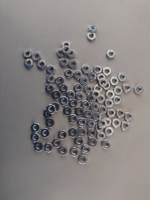nut: (31, 123, 41, 133), (30, 133, 40, 143), (58, 130, 68, 140), (78, 155, 88, 165), (98, 119, 108, 129), (75, 107, 85, 117), (112, 119, 122, 129), (53, 138, 62, 149), (70, 147, 79, 158), (34, 143, 44, 152), (41, 129, 51, 138), (46, 118, 55, 128), (59, 146, 68, 156), (75, 137, 84, 147), (69, 128, 78, 138), (102, 140, 111, 150), (89, 138, 98, 148), (69, 99, 79, 108), (63, 107, 73, 116), (114, 86, 124, 95), (135, 85, 144, 95), (106, 90, 116, 99), (78, 128, 87, 138), (69, 115, 79, 124), (87, 120, 97, 129), (77, 118, 87, 127), (83, 110, 93, 119), (81, 101, 91, 110), (93, 112, 102, 122), (87, 129, 97, 138), (105, 127, 114, 137), (107, 109, 117, 118), (107, 50, 116, 59), (60, 58, 69, 67), (69, 60, 78, 69), (82, 65, 91, 74), (46, 75, 55, 84), (65, 69, 74, 78), (46, 84, 55, 93), (67, 49, 76, 58), (119, 73, 128, 82), (74, 84, 83, 93), (111, 77, 120, 86), (47, 105, 56, 114), (52, 103, 61, 112), (82, 145, 91, 154), (60, 97, 69, 106), (76, 93, 85, 102), (92, 90, 101, 99), (103, 82, 112, 91), (114, 96, 123, 105), (105, 99, 114, 108), (91, 103, 100, 112), (99, 106, 108, 115), (97, 132, 106, 141), (122, 122, 131, 131), (125, 112, 134, 121), (117, 109, 126, 118), (45, 143, 53, 153), (38, 60, 46, 70), (60, 84, 68, 94), (100, 78, 108, 88), (85, 85, 93, 95), (25, 59, 33, 68), (23, 50, 32, 58), (47, 66, 56, 74), (62, 46, 71, 54), (74, 71, 82, 80), (56, 77, 64, 86), (89, 72, 97, 81), (104, 67, 112, 76), (53, 91, 61, 100), (81, 77, 89, 86), (44, 110, 52, 119), (67, 91, 75, 100), (94, 85, 103, 93), (124, 84, 132, 93), (88, 94, 96, 103), (98, 95, 106, 104), (79, 128, 87, 137), (96, 123, 104, 132), (104, 118, 112, 127), (33, 53, 41, 61), (57, 49, 65, 57), (95, 66, 103, 74), (89, 25, 98, 32), (88, 33, 96, 40), (62, 41, 71, 47), (98, 74, 106, 80)
